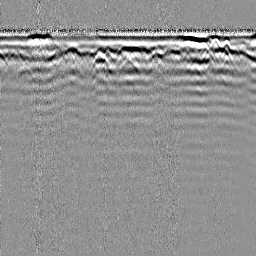cavity: (118, 55, 138, 69)
